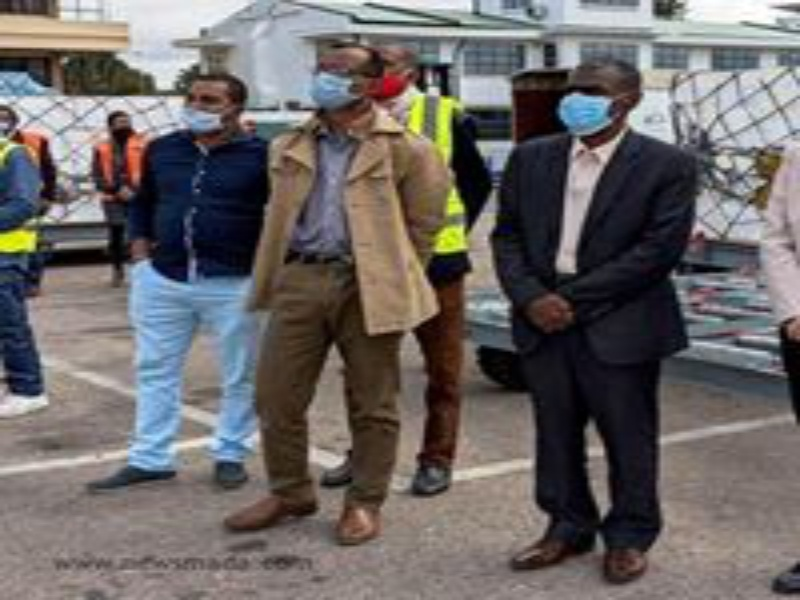ManaoArotava: (551, 61, 637, 149), (167, 64, 244, 142), (304, 43, 370, 110)
